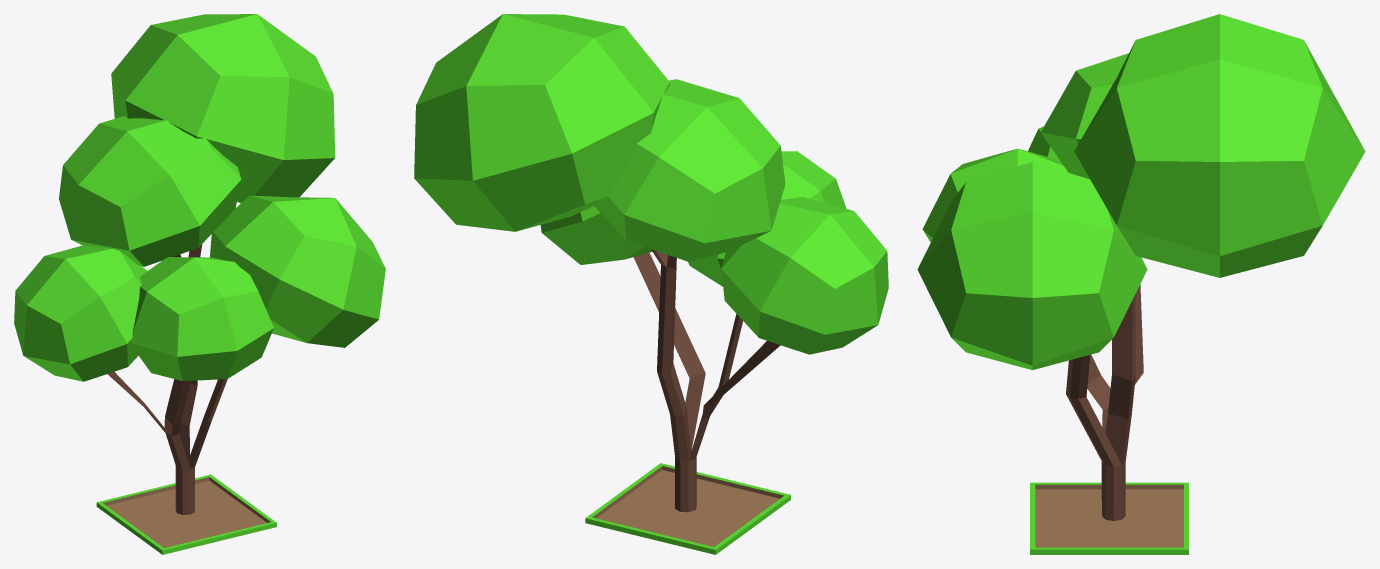
The model's file is Tree.fbx.
3 renders of one model, left to right at view 1: azimuth 30°, elevation 25°; view 2: azimuth 150°, elevation 25°; view 3: azimuth 270°, elevation 25°, orthographic. The views are drawn at different scales.
Visible parts, largest first — view 1: Tree - Low poly; view 2: Tree - Low poly; view 3: Tree - Low poly.
Part boxes in pixels (left/top/right/bottom): Tree - Low poly: left=14, top=14, right=385, bottom=554; Tree - Low poly: left=414, top=14, right=888, bottom=554; Tree - Low poly: left=917, top=14, right=1365, bottom=554.
Bounding box in the file's own units: 2.42 × 2.95 × 2.26.
